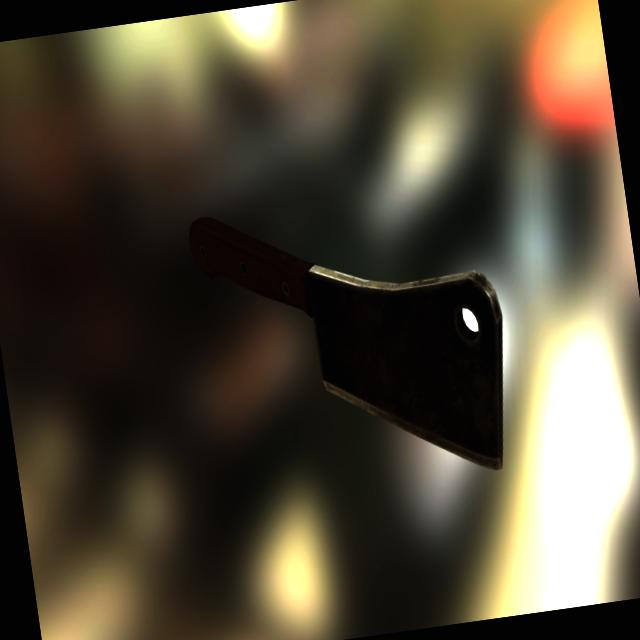cleaver: (195, 174, 529, 486)
